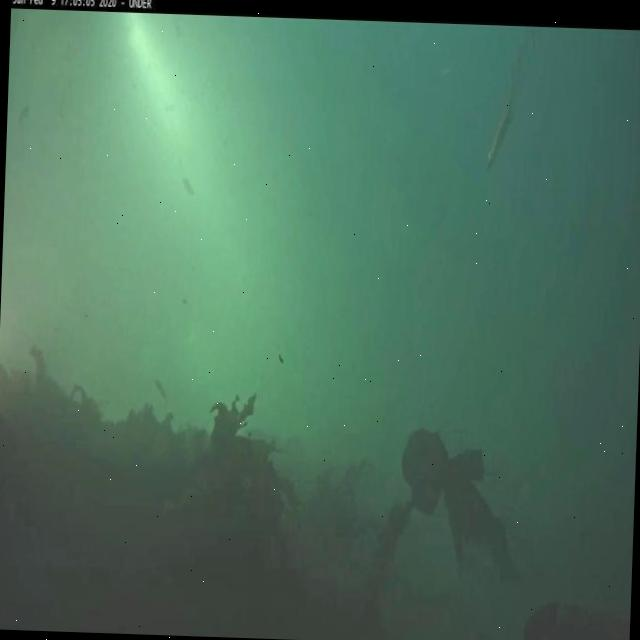fish: (486, 80, 518, 174)
